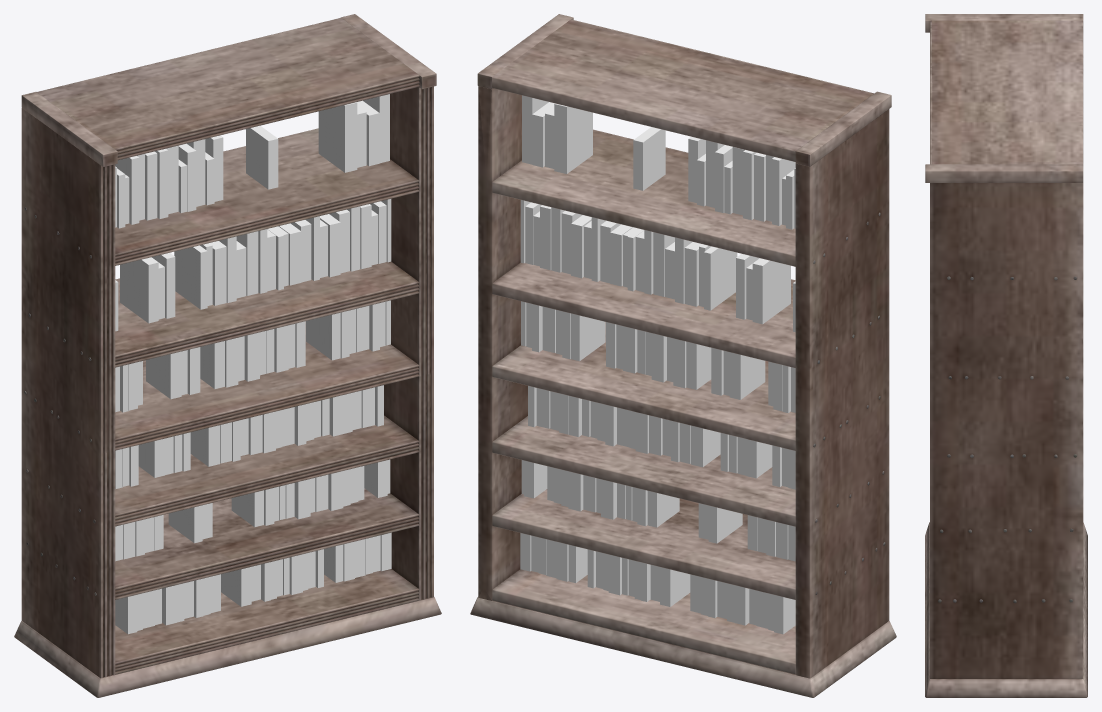
File: wooden_bookshelf_worn.glb
3 renders of one model, left to right at view 1: azimuth 30°, elevation 25°; view 2: azimuth 150°, elevation 25°; view 3: azimuth 270°, elevation 25°, orthographic. The views are drawn at different scales.
Visible parts, largest first — view 1: c22_wood, c23_wood, c15_wood, c26_paper, c24_paper, c13_wood, c10_wood, c28_paper, c30_paper, c34_paper, c18_wood, c17_wood (+14 smaller); view 2: c22_wood, c15_wood, c23_wood, c26_paper, c24_paper, c17_wood, c19_wood, c18_wood, c10_wood, c28_paper, c20_wood, c21_wood (+6 smaller); view 3: c14_wood, c15_wood, c07_wood, c08_wood, c09_wood, c23_wood, c04_wood.
Part boxes in pixels (<box>): c22_wood: <box>21,108,106,678</box>; c23_wood: <box>108,84,425,667</box>; c15_wood: <box>21,14,436,166</box>; c26_paper: <box>115,199,391,331</box>; c24_paper: <box>115,94,389,228</box>; c13_wood: <box>36,87,430,677</box>; c10_wood: <box>115,128,419,259</box>; c28_paper: <box>115,300,390,412</box>; c30_paper: <box>115,385,383,488</box>; c34_paper: <box>115,532,391,634</box>; c18_wood: <box>115,88,421,376</box>; c17_wood: <box>115,488,417,587</box>; c22_wood: <box>795,109,889,678</box>; c15_wood: <box>477,14,891,166</box>; c23_wood: <box>478,86,879,600</box>; c26_paper: <box>520,200,795,332</box>; c24_paper: <box>522,95,795,229</box>; c17_wood: <box>492,489,795,599</box>; c19_wood: <box>492,322,795,450</box>; c18_wood: <box>492,262,795,367</box>; c10_wood: <box>493,130,795,255</box>; c28_paper: <box>521,301,795,412</box>; c20_wood: <box>492,569,795,674</box>; c21_wood: <box>492,416,795,526</box>; c14_wood: <box>930,183,1082,678</box>; c15_wood: <box>925,14,1083,182</box>; c07_wood: <box>925,679,1087,697</box>; c08_wood: <box>925,522,929,696</box>; c09_wood: <box>1083,522,1087,696</box>; c23_wood: <box>1083,183,1083,678</box>; c04_wood: <box>930,20,931,164</box>.
Bounding box in the file's own units: 1.37 × 2.06 × 0.5813.
2 materials, 1 textured.
